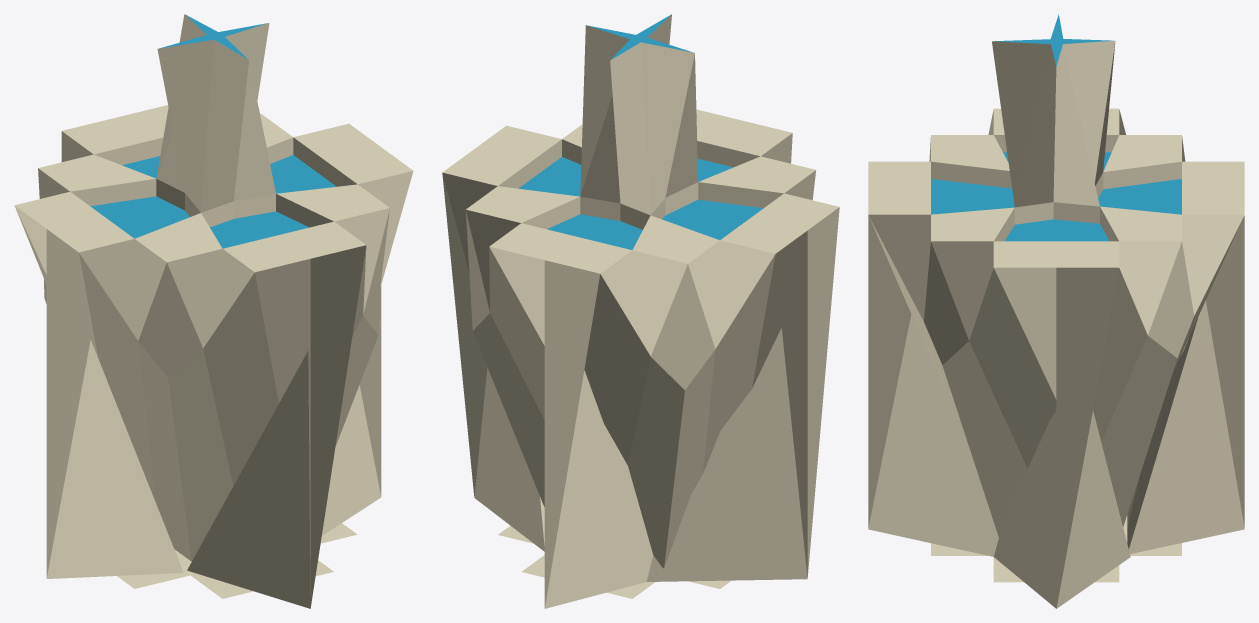
Rendered from deneme.gltf.
3 renders of one model, left to right at view 1: azimuth 30°, elevation 25°; view 2: azimuth 150°, elevation 25°; view 3: azimuth 270°, elevation 25°, orthographic. The views are drawn at different scales.
Visible parts, largest first — view 1: Cube; view 2: Cube; view 3: Cube.
Part boxes in pixels (x1,y1,x2,y2): Cube: (14, 14, 413, 608); Cube: (442, 14, 839, 608); Cube: (868, 14, 1244, 608).
Size of the model in its own units: 2 by 2.87 by 2.
